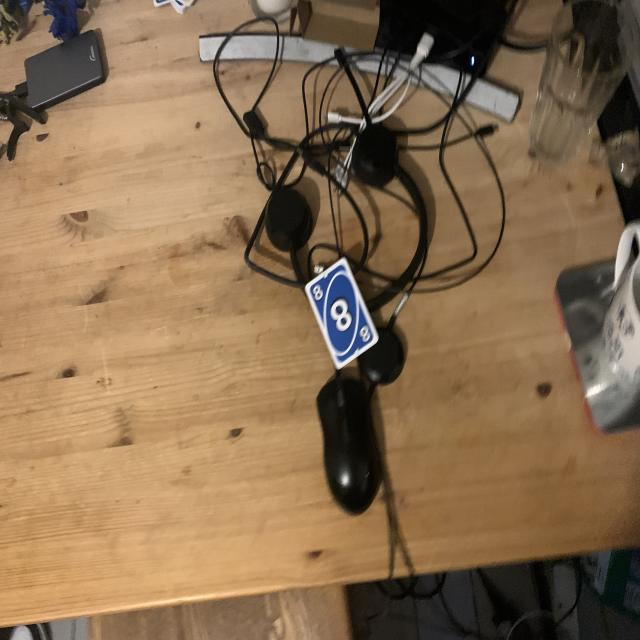lblue-8: (310, 283, 325, 305)
